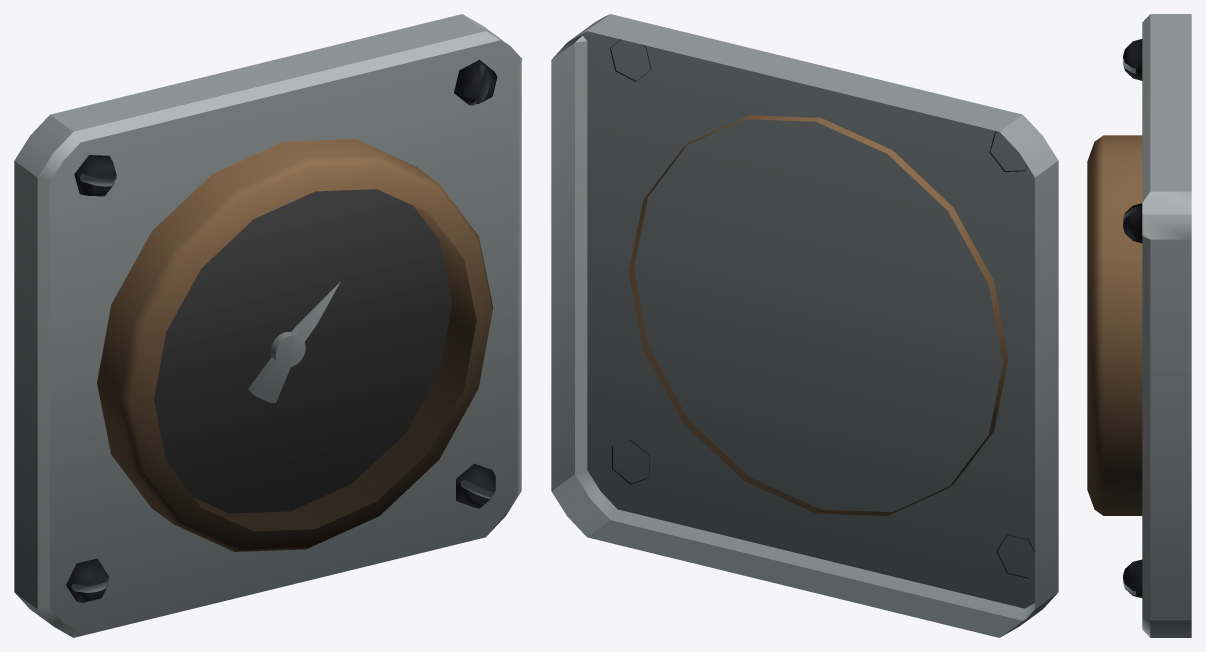
The model's file is altimetro.fbx.
The picture shows the model from 3 angles, left to right: view 1: azimuth 30°, elevation 25°; view 2: azimuth 150°, elevation 25°; view 3: azimuth 270°, elevation 25°; orthographic projection. The views are drawn at different scales.
Parts seen in each view (by area): view 1: base_altimetro1, freccia_altimetro; view 2: base_altimetro1; view 3: base_altimetro1.
Part boxes in pixels (x1=…): base_altimetro1: x1=14, y1=14, x2=522, y2=637; freccia_altimetro: x1=248, y1=281, x2=340, y2=402; base_altimetro1: x1=551, y1=14, x2=1058, y2=637; base_altimetro1: x1=1087, y1=14, x2=1191, y2=637.
Bounding box in the file's own units: 20 × 20 × 4.23.
